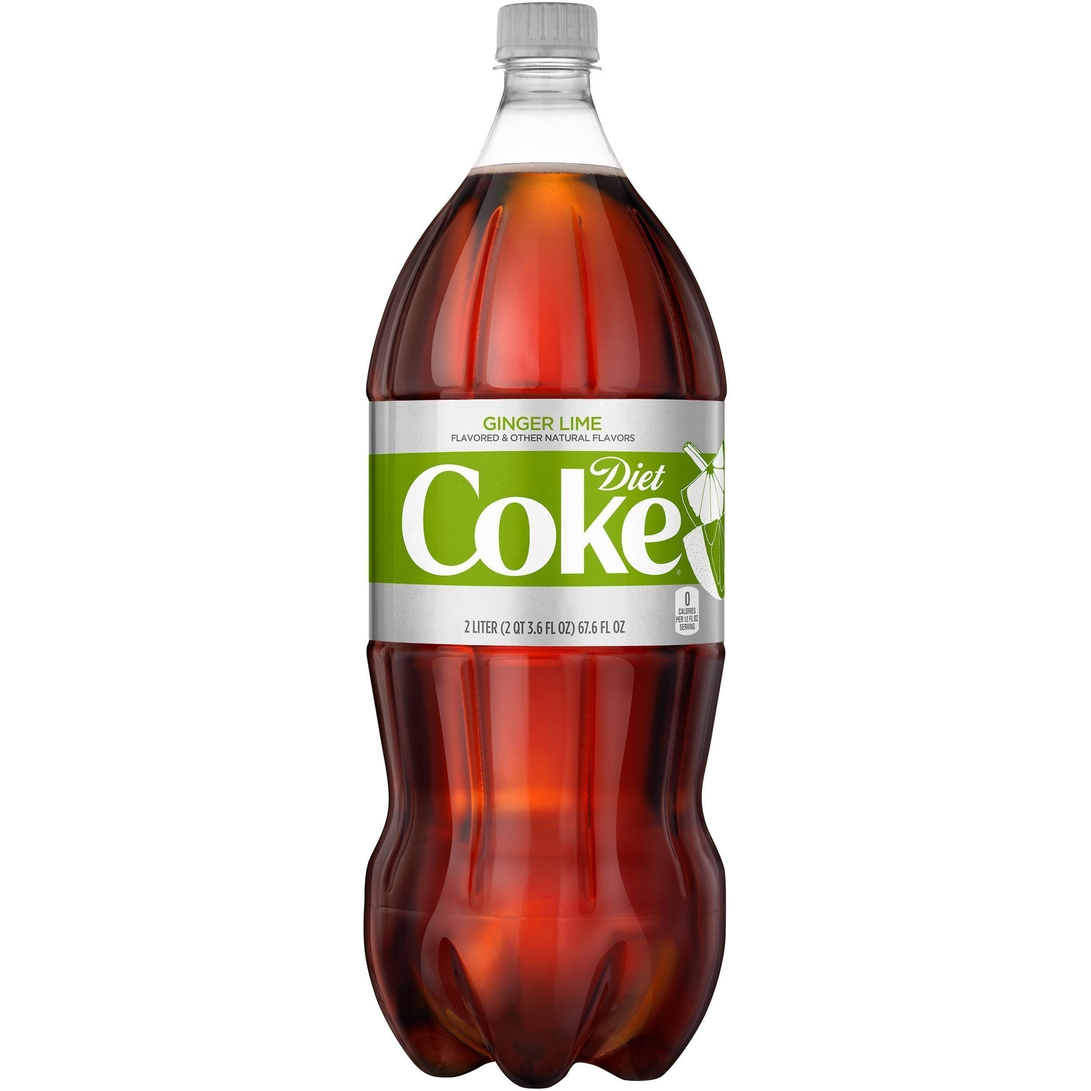bottle-plastic: (353, 0, 738, 1089)
